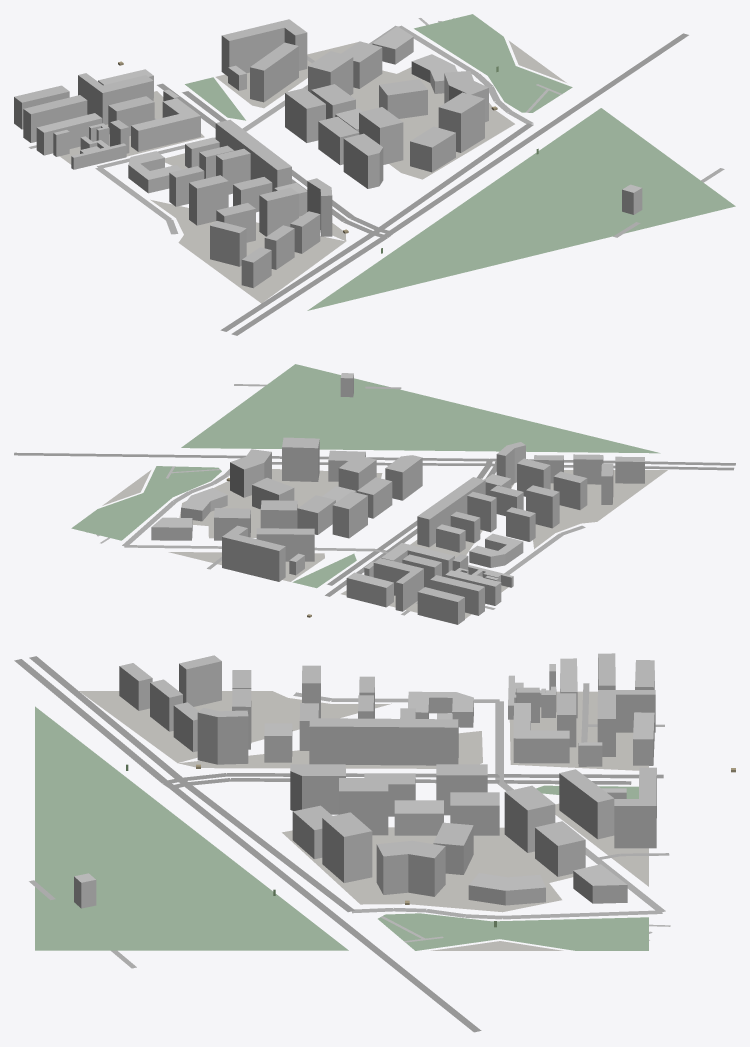
The picture shows the model from 3 angles, top to bottom: view 1: azimuth 30°, elevation 25°; view 2: azimuth 150°, elevation 25°; view 3: azimuth 270°, elevation 25°; orthographic projection. The views are drawn at different scales.
Size of the model in its own units: 720 by 44.21 by 588.
